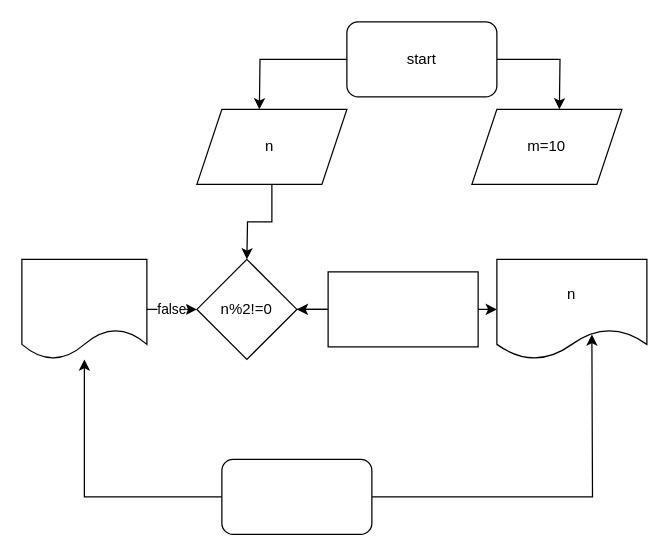
Image size: 669x556. Some labels were removed from this diagram. The shapes that lost their labels are listed below. From the top down, each one's centre as x and y in pixels, then its label:
At point 84,308: "wrong".
At point 402,309: "n+=m".
At point 296,496: "end".
